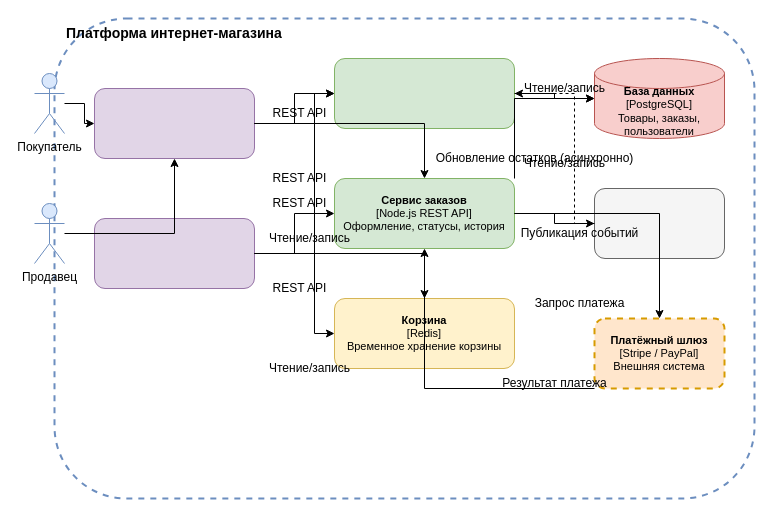
Some shapes in this 772 by 516 pixel diagram are drawn without their labels. The shapes that lost their labels are listed below. From the top down, each one's centre as x and y in pixels, then its label:
At point (424, 93): "Сервис каталога товаров [Spring Boot REST API] Управление товарами, поиск".
At point (174, 123): "Веб-приложение [React SPA] Интерфейс покупателей и продавцов".
At point (659, 223): "Брокер сообщений [RabbitMQ] Асинхронные события".
At point (174, 253): "Мобильный клиент [Flutter / React Native] Мобильный интерфейс".
